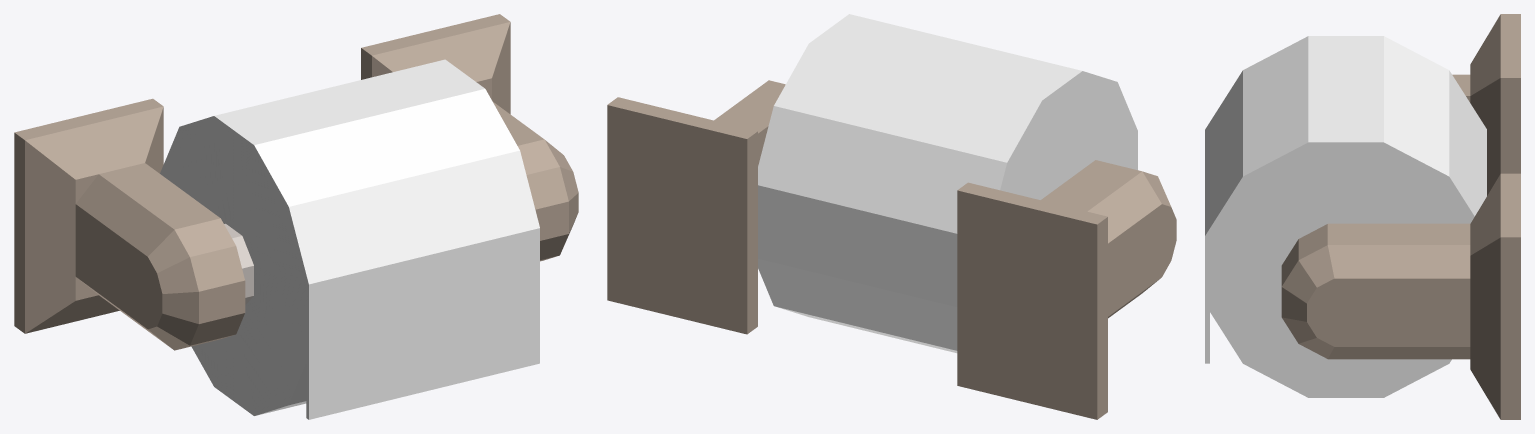
The model's file is Prop_Bathroom_Toilet_Paper_Dispenser.obj.
3 views of the same model, side by side, from view 1: azimuth 30°, elevation 25°; view 2: azimuth 150°, elevation 25°; view 3: azimuth 270°, elevation 25° (orthographic). The views are drawn at different scales.
Parts seen in each view (by area): view 1: object1; view 2: object1; view 3: object1.
Part boxes in pixels (x1,y1,x2,y2): object1: (14, 14, 578, 419); object1: (607, 14, 1176, 419); object1: (1205, 14, 1520, 419).
Bounding box in the file's own units: 0.2625 × 0.14 × 0.1567.
